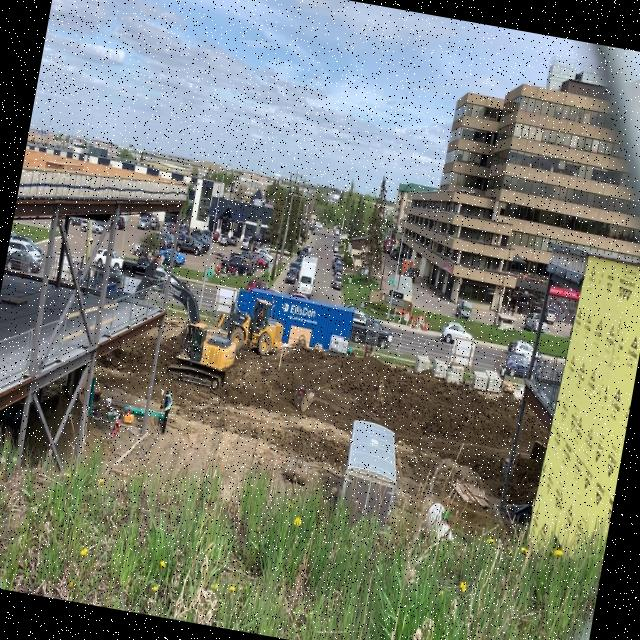Excavator: (120, 258, 250, 394)
Loader: (214, 292, 292, 358)
